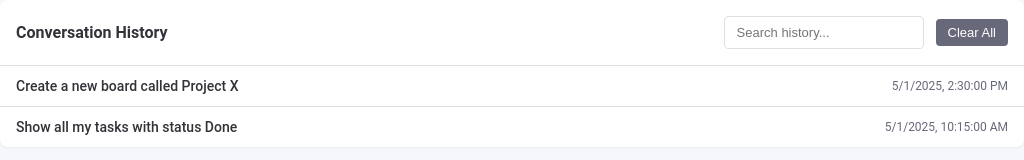
Test: ConversationHistory Component › filters history by search query
Expected: the text "Create a new board called Project X" is shown, x1=16 y1=78 x2=238 y2=94
Expected: the text "Show all my tasks with status Done" is shown, x1=16 y1=119 x2=237 y2=135
// Type in the search input
Type "board" into the field with placeholder "Search history..." at {"x": 824, "y": 32}, box x1=724 y1=16 x2=924 y2=49
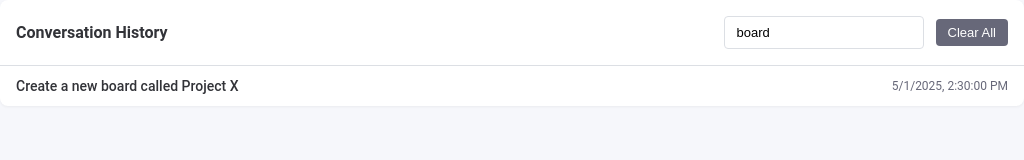
Expected: the text "Create a new board called Project X" is shown, x1=16 y1=78 x2=238 y2=94
Expected: the text "Show all my tasks with status Done" is gone
